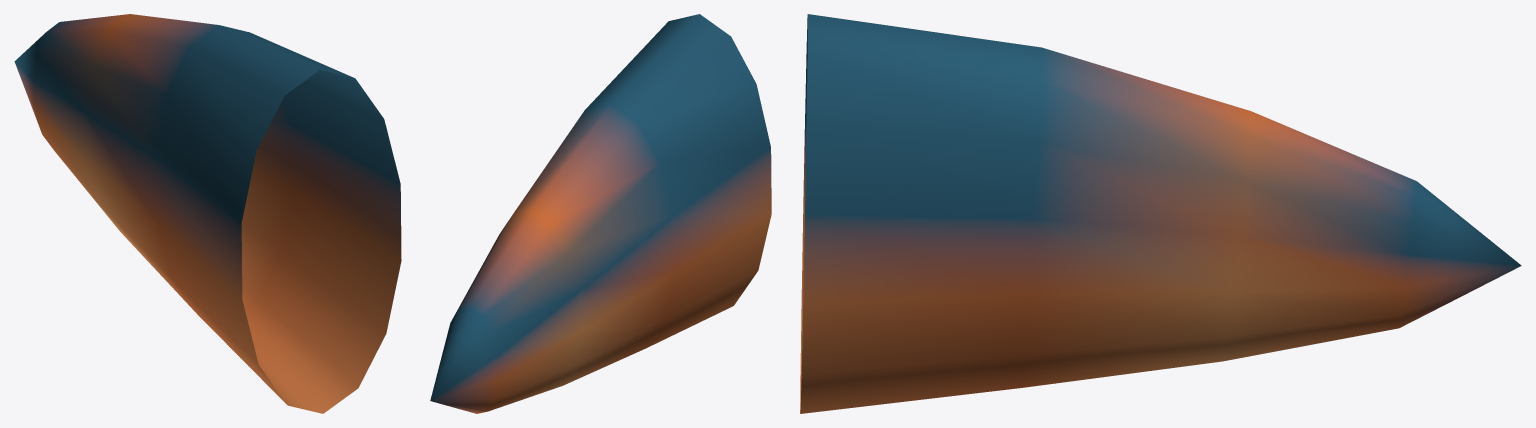
Rendered from Hitode_Arm.fbx.
3 renders of one model, left to right at view 1: azimuth 30°, elevation 25°; view 2: azimuth 150°, elevation 25°; view 3: azimuth 270°, elevation 25°, orthographic. The views are drawn at different scales.
Visible parts, largest first — view 1: Hitode_Arm; view 2: Hitode_Arm; view 3: Hitode_Arm.
Boxes of the visible parts, bbox=[...] form: Hitode_Arm: bbox=[14, 14, 401, 413]; Hitode_Arm: bbox=[430, 14, 771, 413]; Hitode_Arm: bbox=[800, 14, 1521, 413].
Size of the model in its own units: 0.2632 by 0.5399 by 0.8848.
